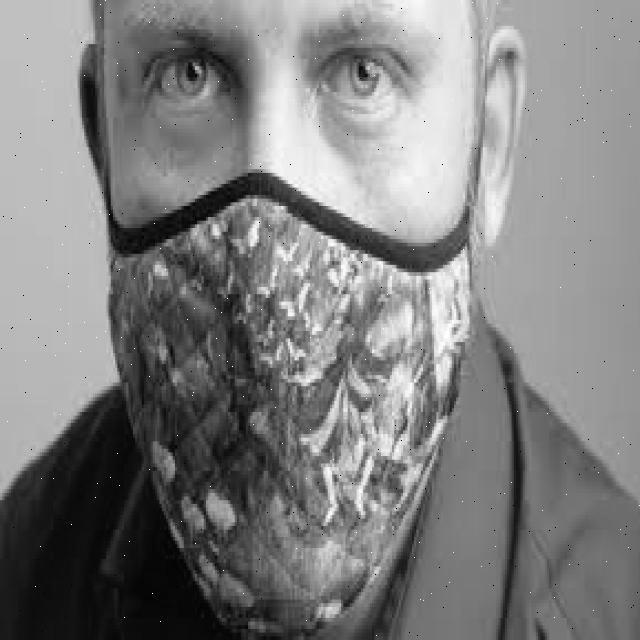fake: (99, 175, 470, 640)
real: (96, 0, 480, 640)
